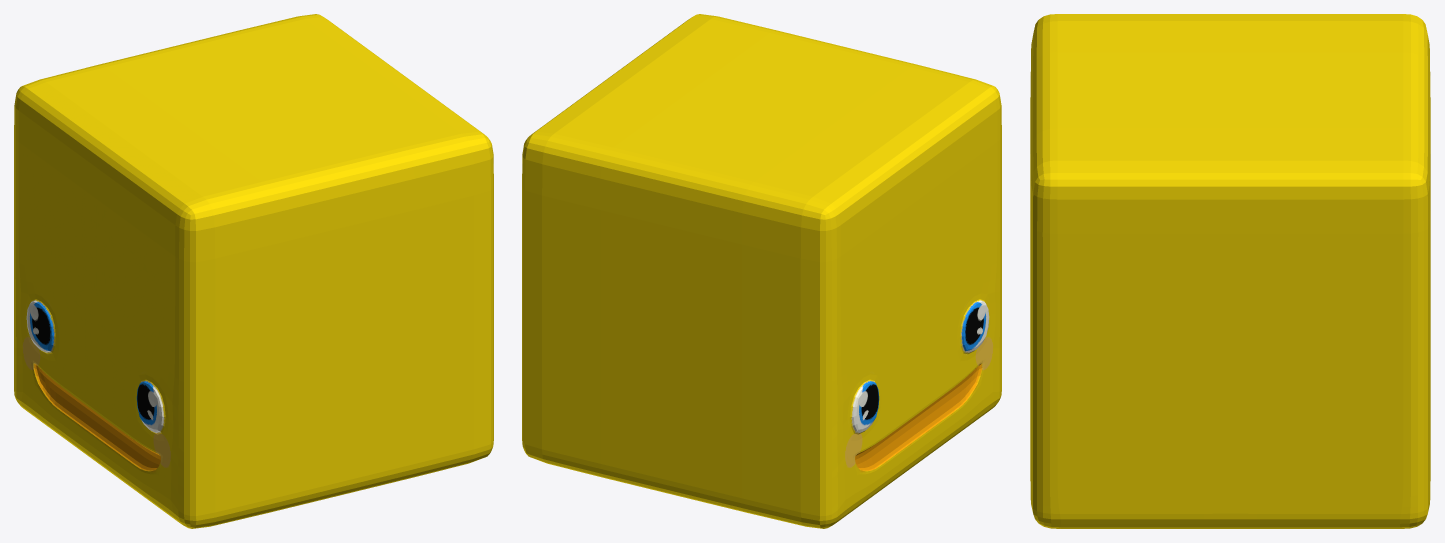
The model's file is blumby.glb.
3 views of the same model, side by side, from view 1: azimuth 30°, elevation 25°; view 2: azimuth 150°, elevation 25°; view 3: azimuth 270°, elevation 25° (orthographic). The views are drawn at different scales.
Visible parts, largest first — view 1: Cube; view 2: Cube; view 3: Cube.
Part boxes in pixels (box(x1,y1,x2,y2)): Cube: box(14, 14, 493, 528); Cube: box(522, 14, 1001, 528); Cube: box(1030, 14, 1430, 528).
Bounding box in the file's own units: 2.02 × 2 × 2.
1 material, 1 textured.
